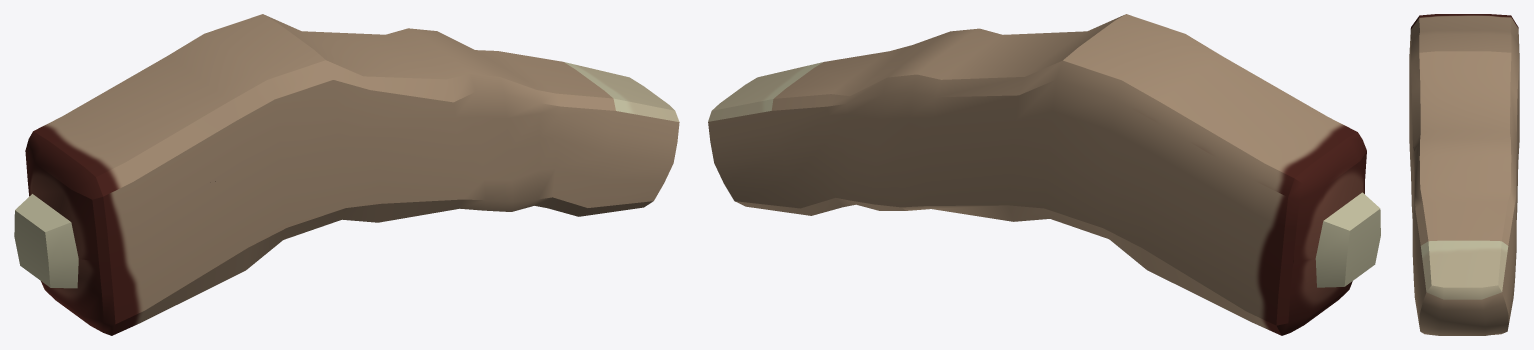
File: finger.fbx
3 renders of one model, left to right at view 1: azimuth 30°, elevation 25°; view 2: azimuth 150°, elevation 25°; view 3: azimuth 270°, elevation 25°, orthographic. The views are drawn at different scales.
Visible parts, largest first — view 1: finger; view 2: finger; view 3: finger.
Boxes of the visible parts, <box> form: finger: <box>14,14,679,335</box>; finger: <box>708,14,1380,335</box>; finger: <box>1409,14,1519,335</box>.
Bounding box in the file's own units: 0.1124 × 0.0392 × 0.0232.
1 material, 1 textured.
